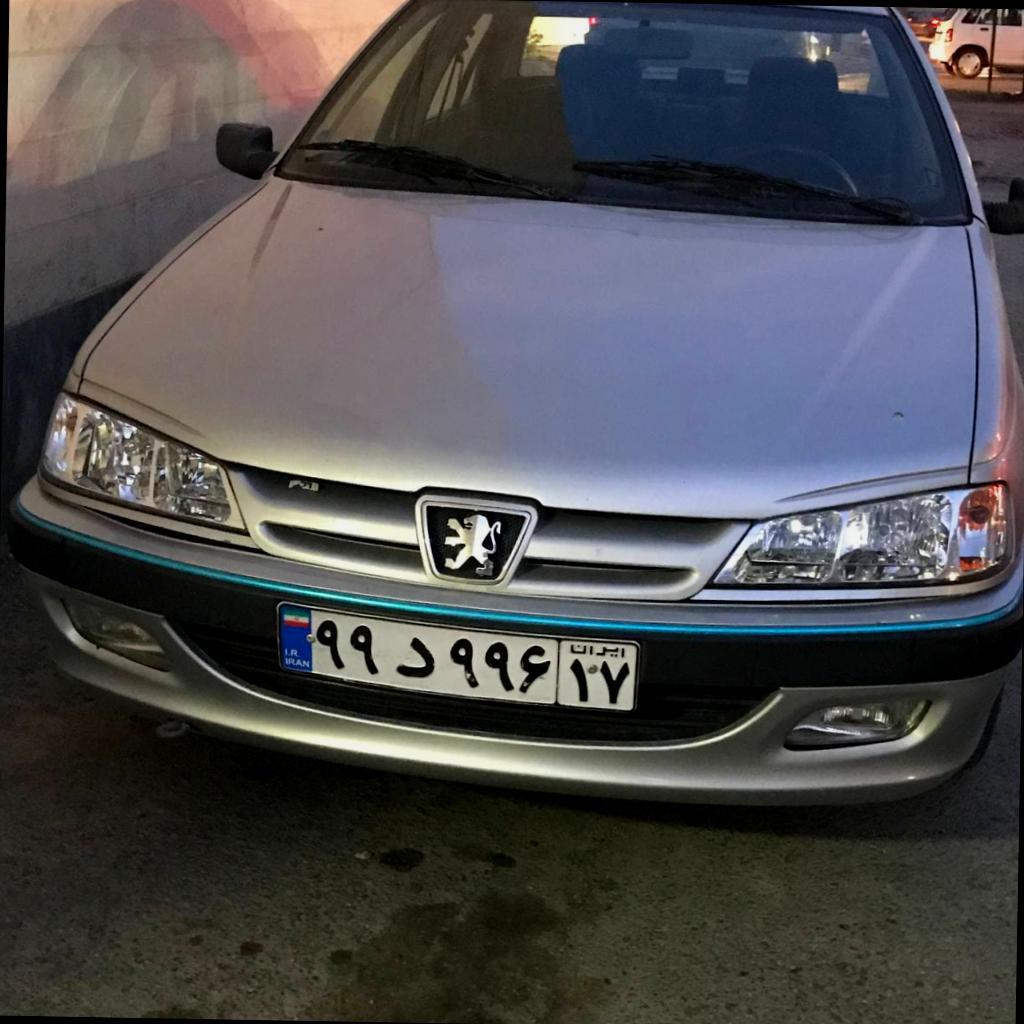Plates: (278, 604, 637, 711)
